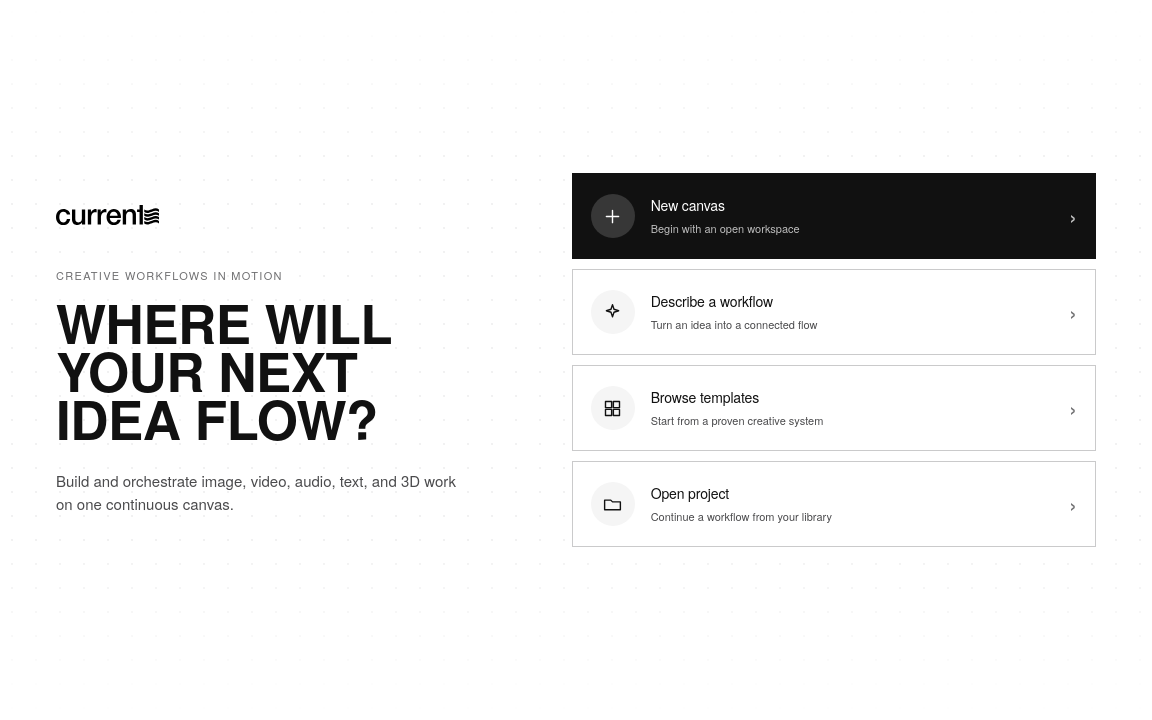
WelcomeModal › Initial View Navigation › should navigate to templates view when 'Templates' is clicked
Click the text "Browse templates": [705, 397] box [651,387,759,407]
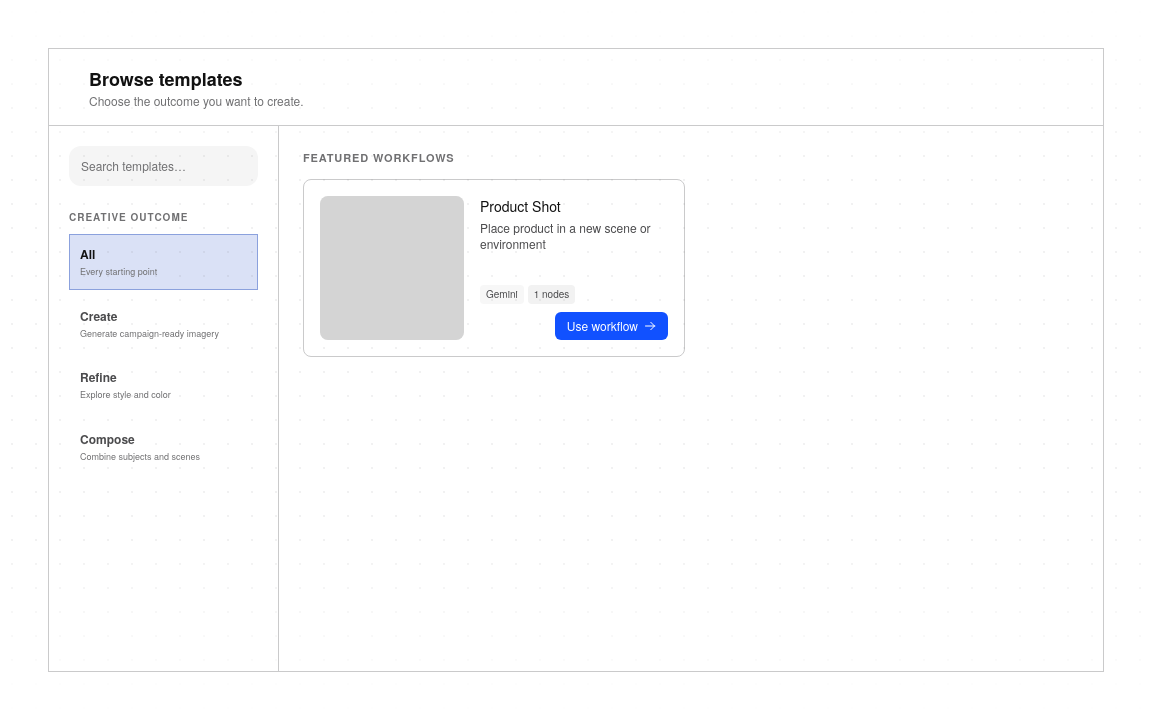
Expected: the heading "Browse templates" is shown, [89,66,243,92]
Now the heading "Featured workflows" is shown, box [303,150,455,165]
